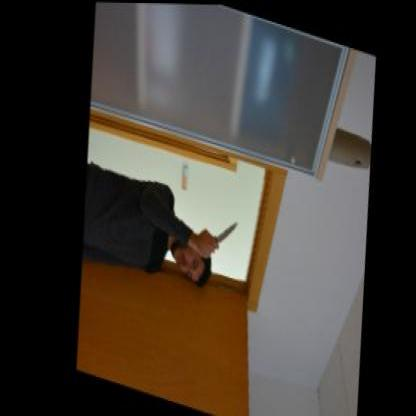knife: (206, 210, 238, 251)
